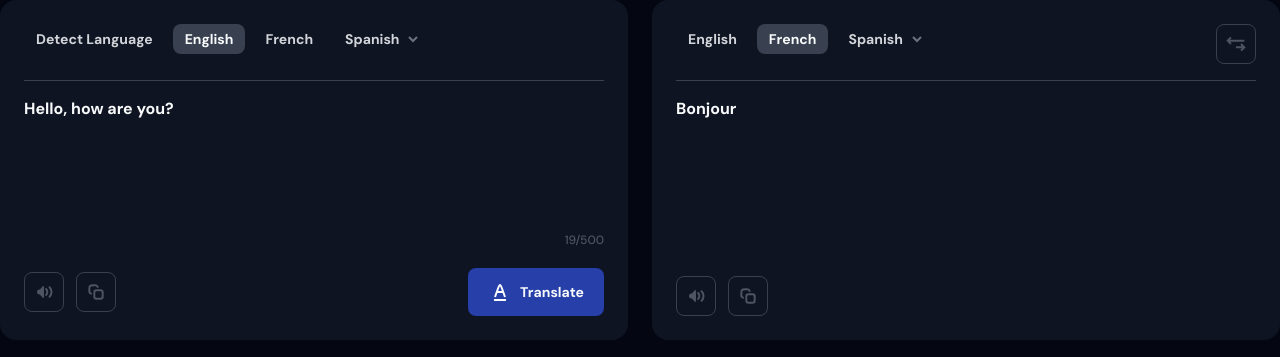
TranslateForm › swaps languages and text
Expected: the text "Bonjour" is shown, [676,98,736,119]
Click the button named "Switch languages" at [1236, 44], box [1216,24,1256,64]
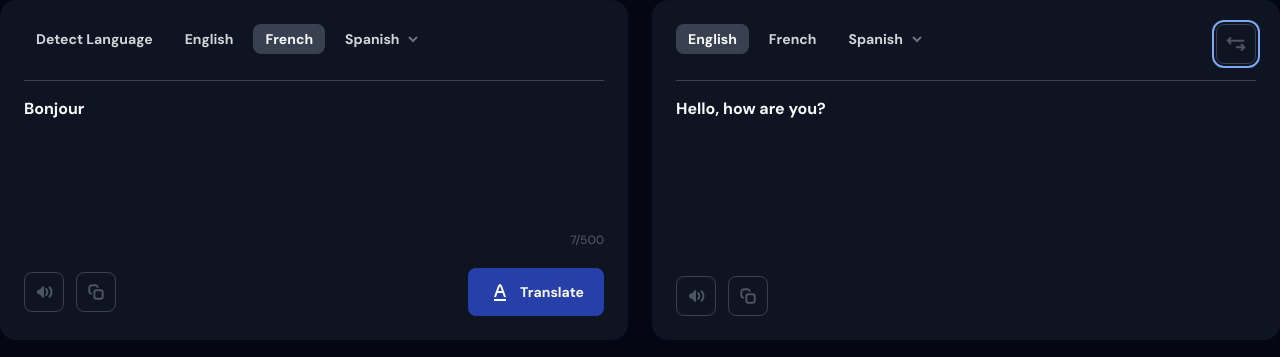
Expected: the text box named "Translate from" holds "Bonjour", [24,97,604,220]
